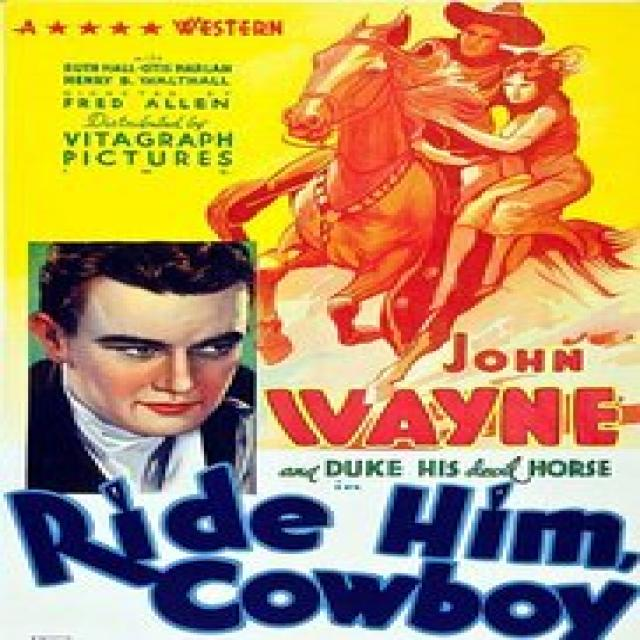movie-judul: (0, 467, 640, 640)
picture: (212, 6, 640, 344), (31, 242, 258, 489)
